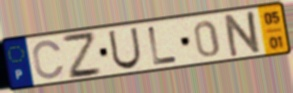0: (191, 19, 223, 58)
C: (31, 38, 66, 81)
L: (146, 24, 180, 66)
N: (223, 8, 265, 59)
U: (106, 26, 143, 72)
Z: (60, 32, 104, 81)
